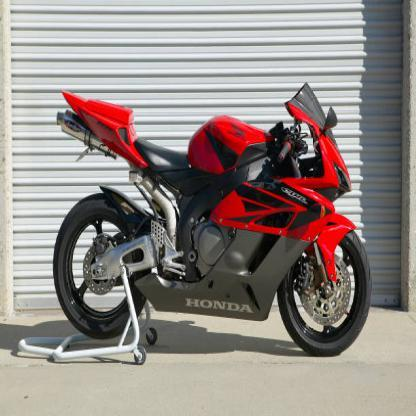Motorcycle: (47, 74, 373, 358)
